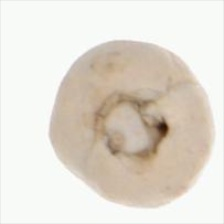L3: (90, 93, 169, 161)
L4: (48, 41, 214, 209)
